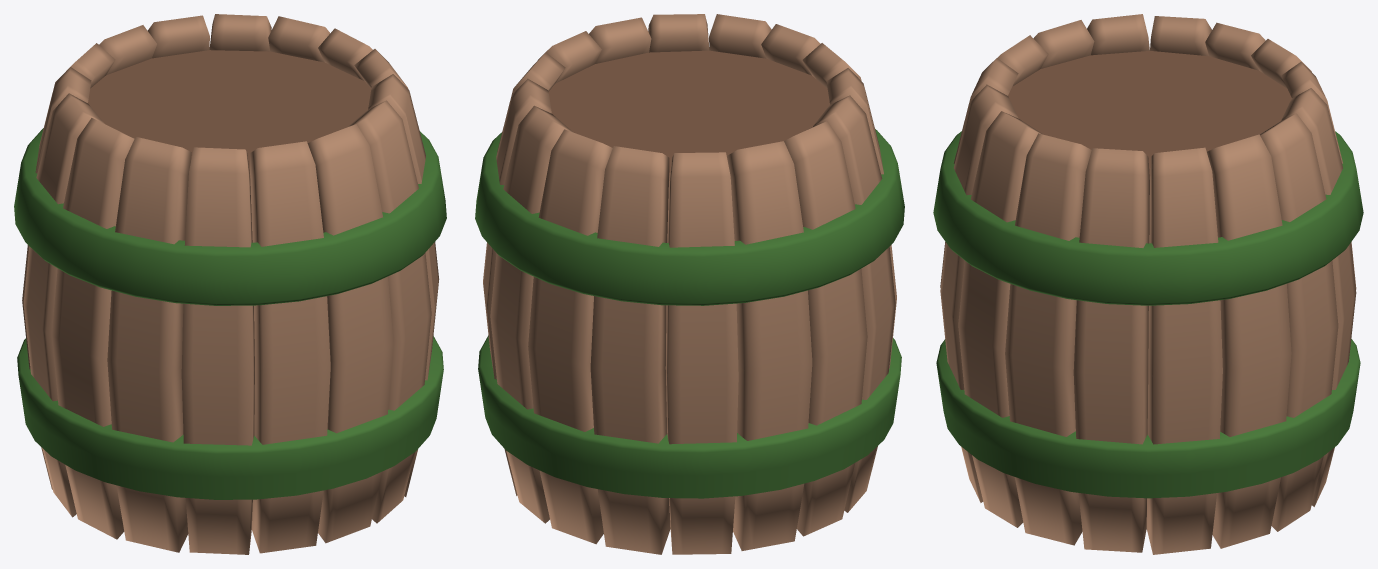
The model's file is Barrell.glb.
3 renders of one model, left to right at view 1: azimuth 30°, elevation 25°; view 2: azimuth 150°, elevation 25°; view 3: azimuth 270°, elevation 25°, orthographic.
Visible parts, largest first — view 1: Barrel; view 2: Barrel; view 3: Barrel.
Boxes of the visible parts, left/top/right/bottom form: Barrel: left=14, top=14, right=446, bottom=554; Barrel: left=475, top=14, right=904, bottom=554; Barrel: left=933, top=14, right=1363, bottom=554.
Size of the model in its own units: 1.38 by 1.41 by 1.38.
